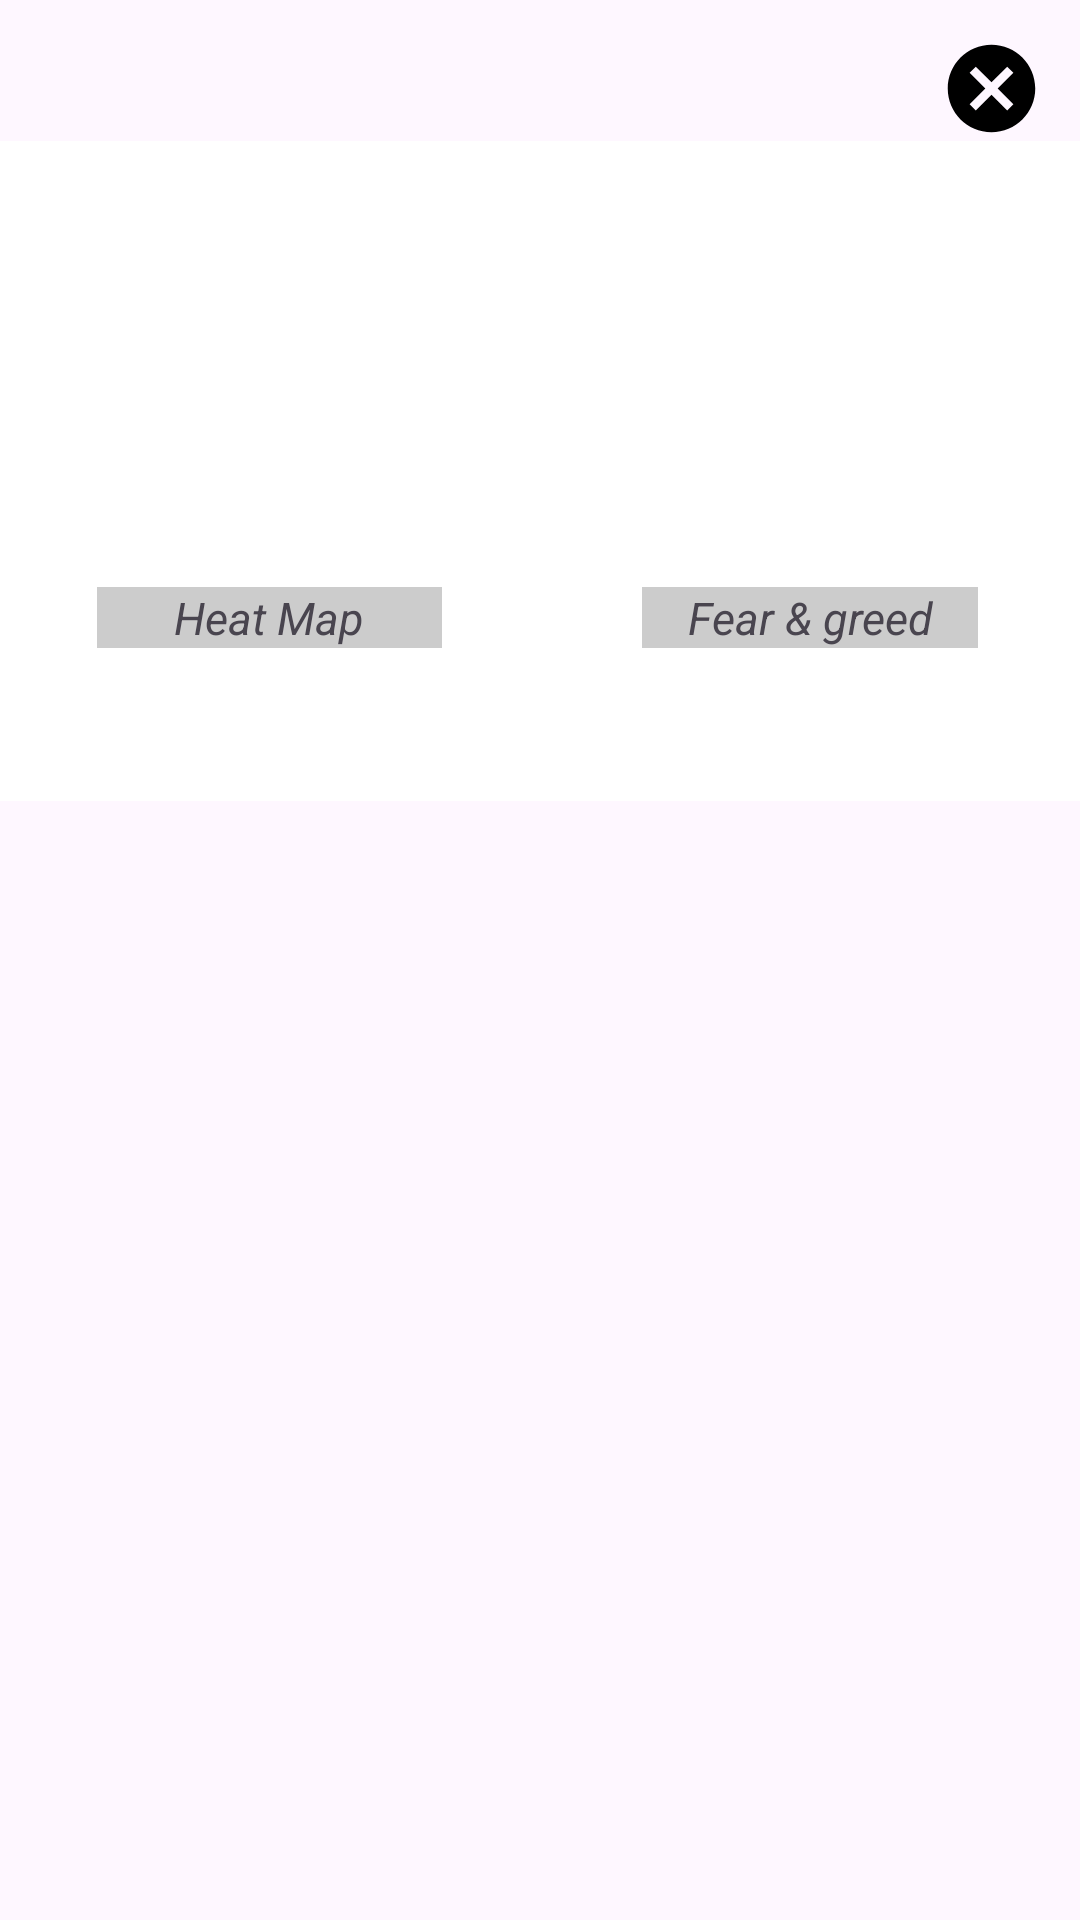

Screen size 1080×1920. Icon name, then its center in pixels as (x,y):
cancel: (991,88)
